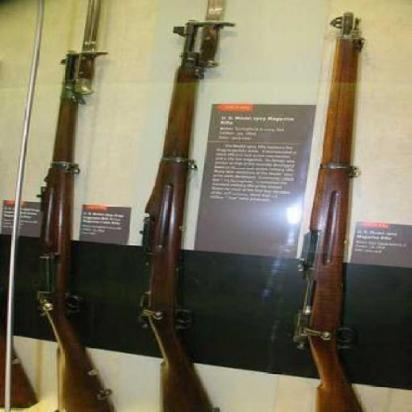Gun: (132, 22, 236, 412), (291, 0, 371, 412), (30, 43, 110, 411)
